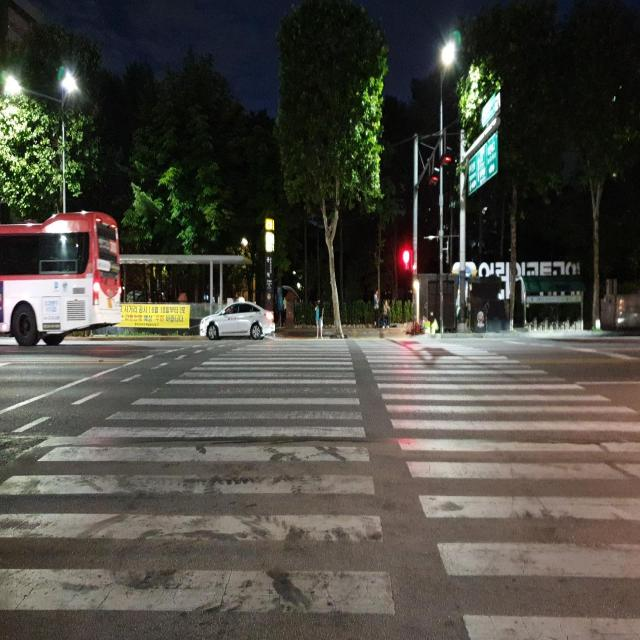빨간불: (399, 246, 413, 286)
횡단보도: (0, 330, 640, 640)
